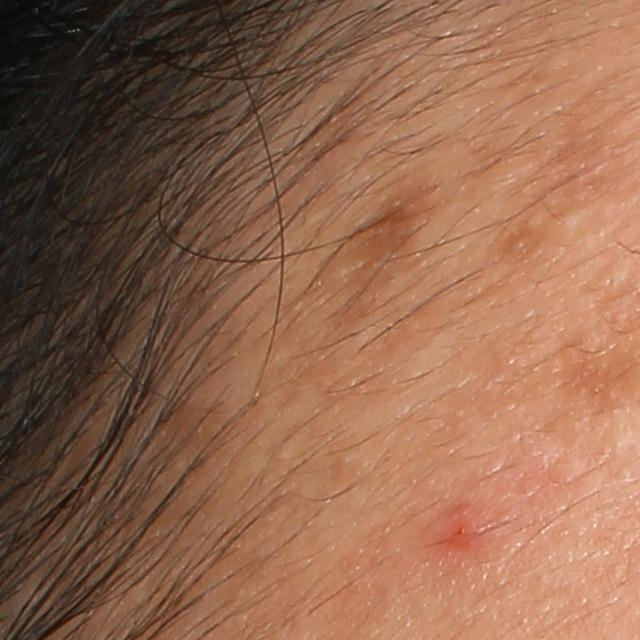papule: (433, 503, 490, 554)
